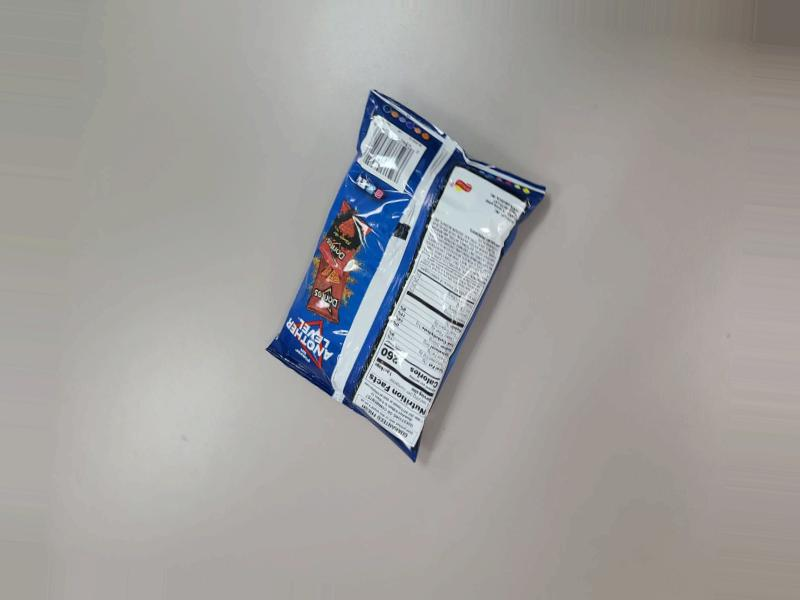doritos: (255, 84, 544, 470)
